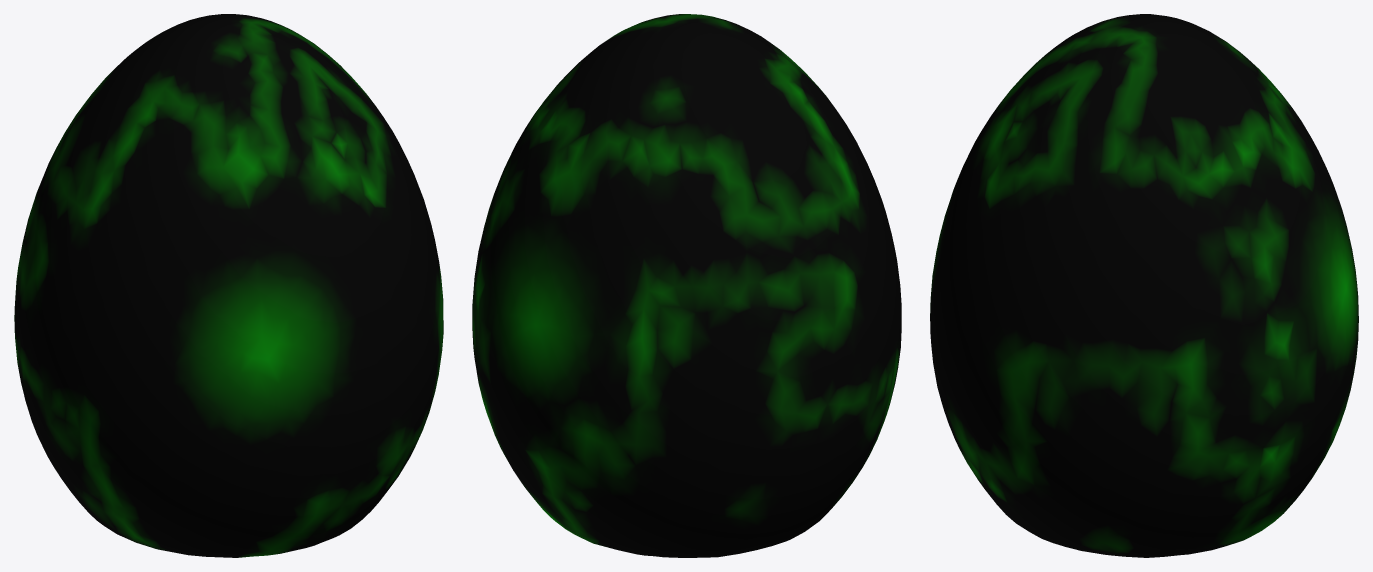
File: scifi-easter-egg.glb
3 views of the same model, side by side, from view 1: azimuth 30°, elevation 25°; view 2: azimuth 150°, elevation 25°; view 3: azimuth 270°, elevation 25° (orthographic).
Visible parts, largest first — view 1: SciFi EasterEgg; view 2: SciFi EasterEgg; view 3: SciFi EasterEgg.
Part boxes in pixels (x1,y1,x2,y2): SciFi EasterEgg: [14, 14, 443, 557]; SciFi EasterEgg: [472, 14, 901, 557]; SciFi EasterEgg: [930, 14, 1358, 557].
Bounding box in the file's own units: 0.4082 × 0.5 × 0.4083.
